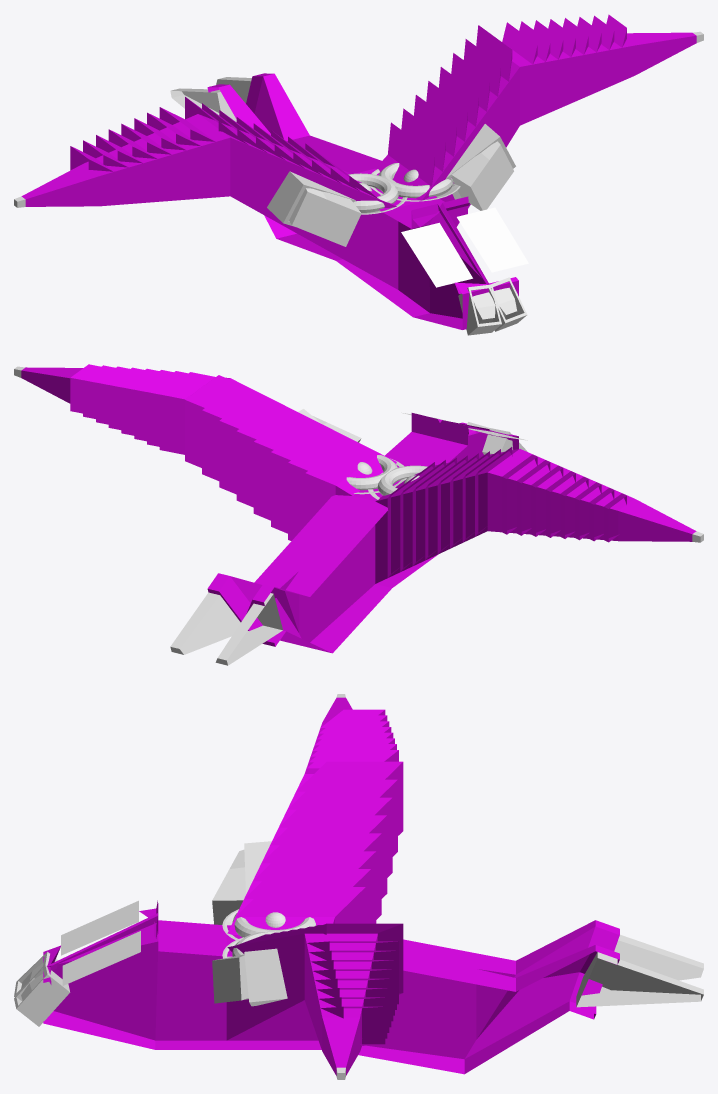
Rendered from shap.fbx.
The picture shows the model from 3 angles, top to bottom: view 1: azimuth 30°, elevation 25°; view 2: azimuth 150°, elevation 25°; view 3: azimuth 270°, elevation 25°; orthographic projection. The views are drawn at different scales.
Visible parts, largest first — view 1: Ship.011; view 2: Ship.011; view 3: Ship.011.
Boxes of the visible parts, bbox=[...] form: Ship.011: bbox=[14, 14, 703, 335]; Ship.011: bbox=[14, 364, 703, 665]; Ship.011: bbox=[14, 694, 703, 1079].
Size of the model in its own units: 1740 by 463 by 1340.
